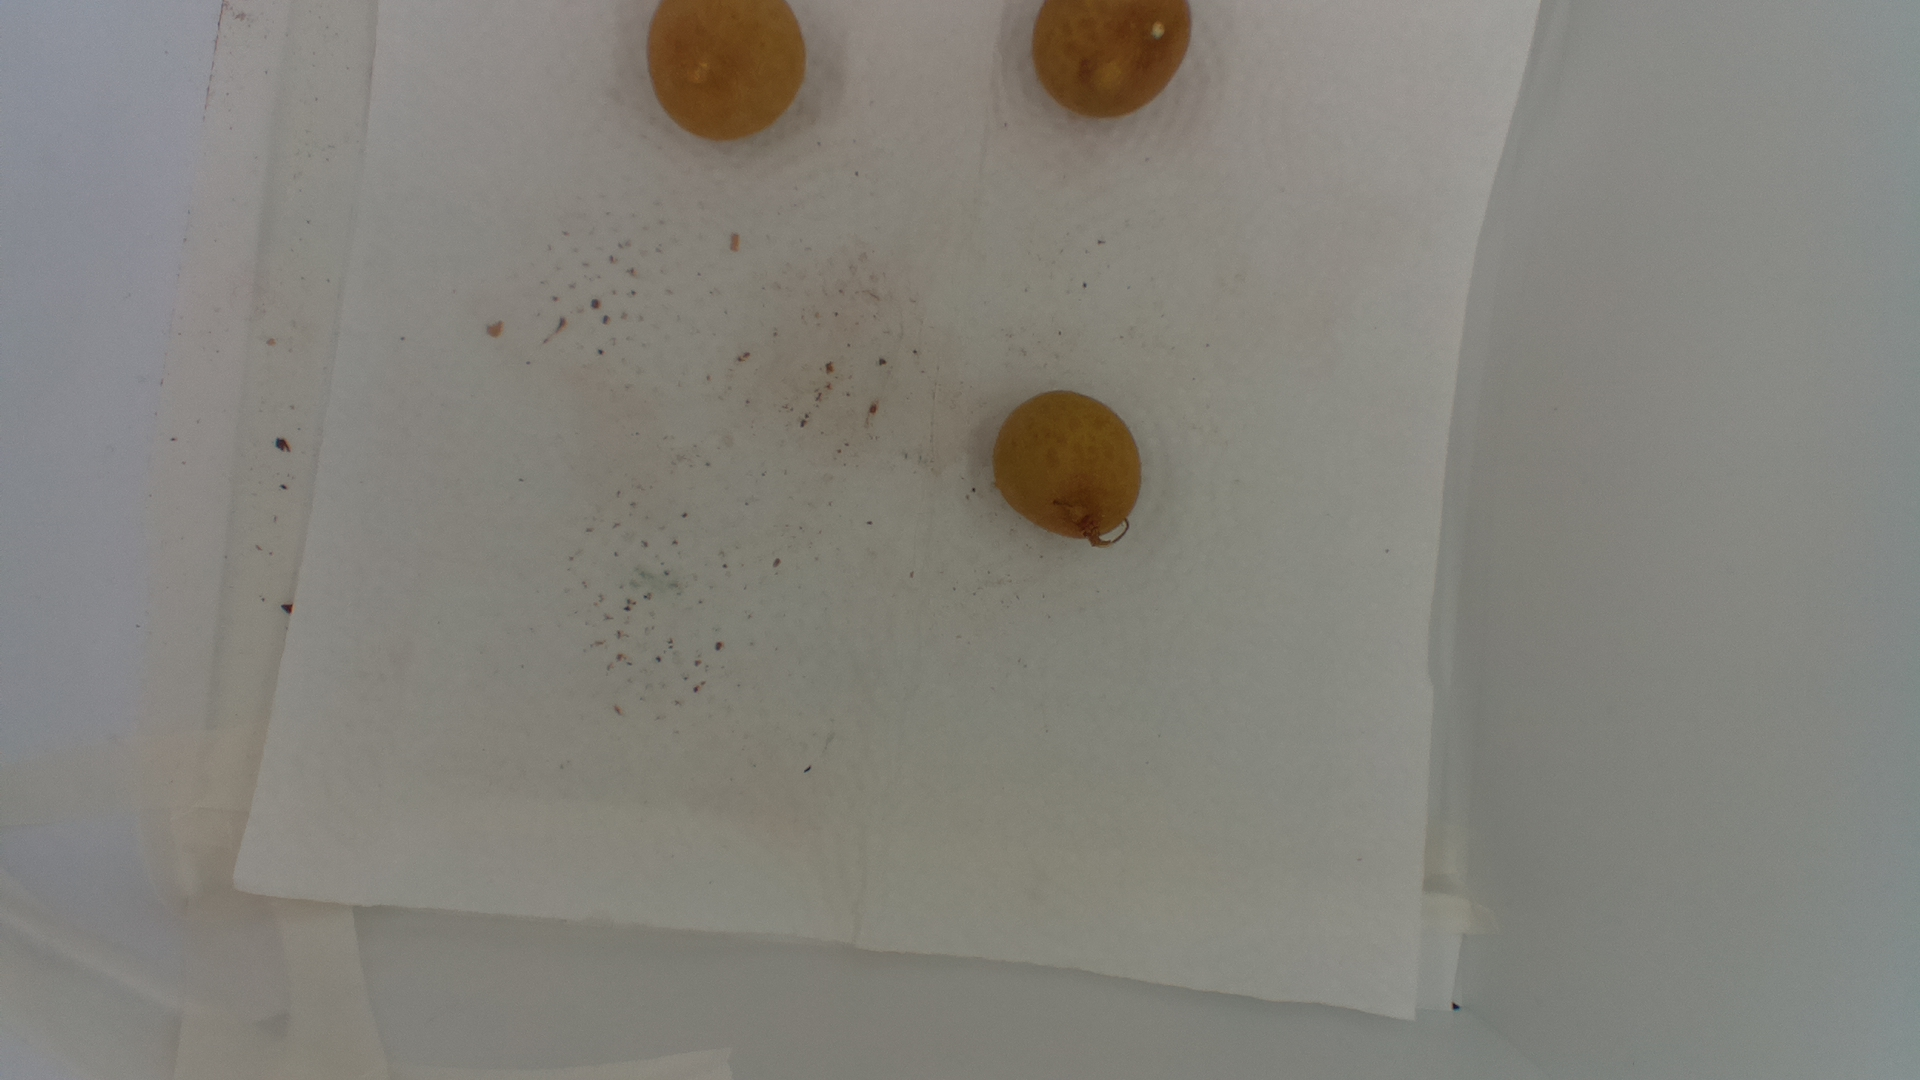fruit: (985, 386, 1149, 553), (645, 1, 818, 145), (1029, 1, 1205, 120)
